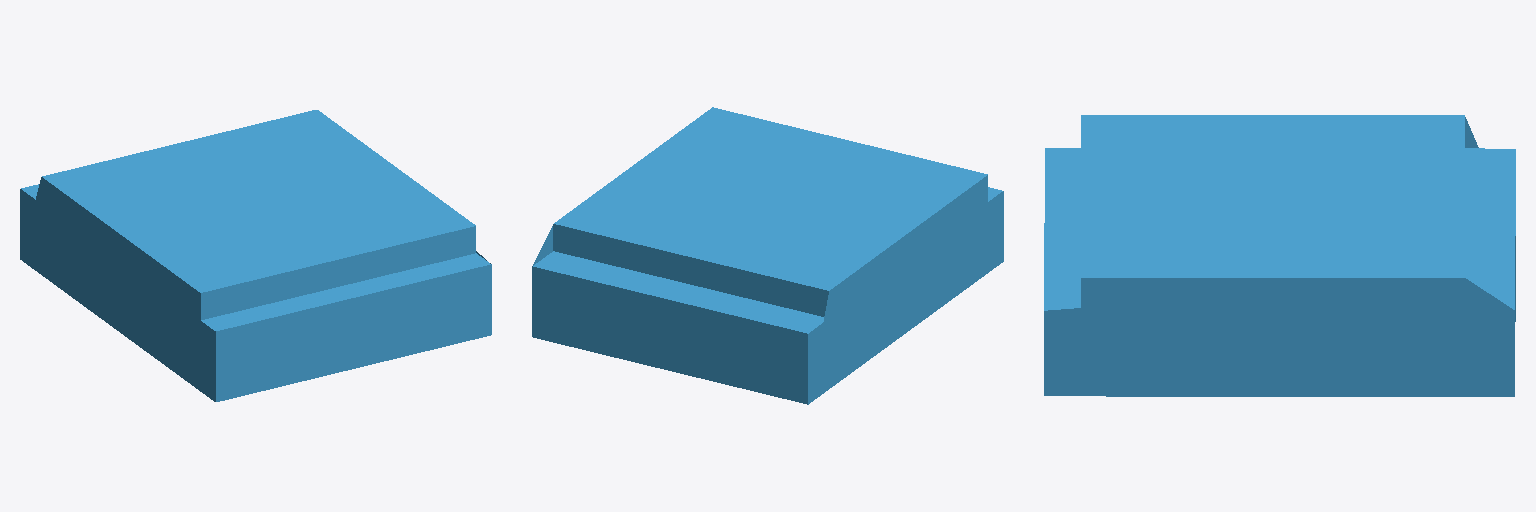
robot.urdf — cast_flying_arena:
<?xml version="1.0"?>
<robot name="cast_flying_arena">

  <link name="world">
    <visual>
      <origin rpy="0.0 0 -3.1415" xyz="4.075 5.135 0"/>
      <geometry>
        <mesh filename="package://bintel_ros/meshes/cast/cast_simple_2.dae"/>
      </geometry>
    </visual>
  </link>
  
  <link name="wind_tunnel">
    <visual>
      <origin rpy="0 0 0" xyz="0 0 0"/>
      <geometry>
        <mesh filename="package://bintel_ros/meshes/wind_tunnel_down.dae"/>
      </geometry>
    </visual>
  </link>
  
  <joint name="some_joint" type="fixed">
    <parent link="world"/>
    <child link="wind_tunnel"/>
    <origin rpy="0 0 1.5707" xyz="-0.1 -7.0 0"/>
  </joint>


</robot>

--- What the picture shows (computed from the rendered views, not written in the file) ---
3 views of the same robot in one strip: view 1: azimuth 30°, elevation 25°; view 2: azimuth 150°, elevation 25°; view 3: azimuth 270°, elevation 25° (orthographic).
Robot: cast_flying_arena — 2 links, 1 joints (1 fixed); root link world; default pose: all joints at 0.
Links seen in each view (by area): view 1: wind_tunnel; view 2: wind_tunnel; view 3: wind_tunnel.
Boxes of the visible links, x1,y1,x2,y2 form: wind_tunnel: (20,110,491,401); wind_tunnel: (532,107,1003,404); wind_tunnel: (1044,115,1515,396).
Bounding box of the posed robot: 3.27 × 4.01 × 1.11 m (x, y, z).
1 mesh visuals loaded from 2 distinct referenced files (1 Collada DAE); not drawn: 1 (file found but could not be loaded).